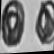correct: (0, 0, 26, 52)
not correct: (34, 0, 54, 51)
